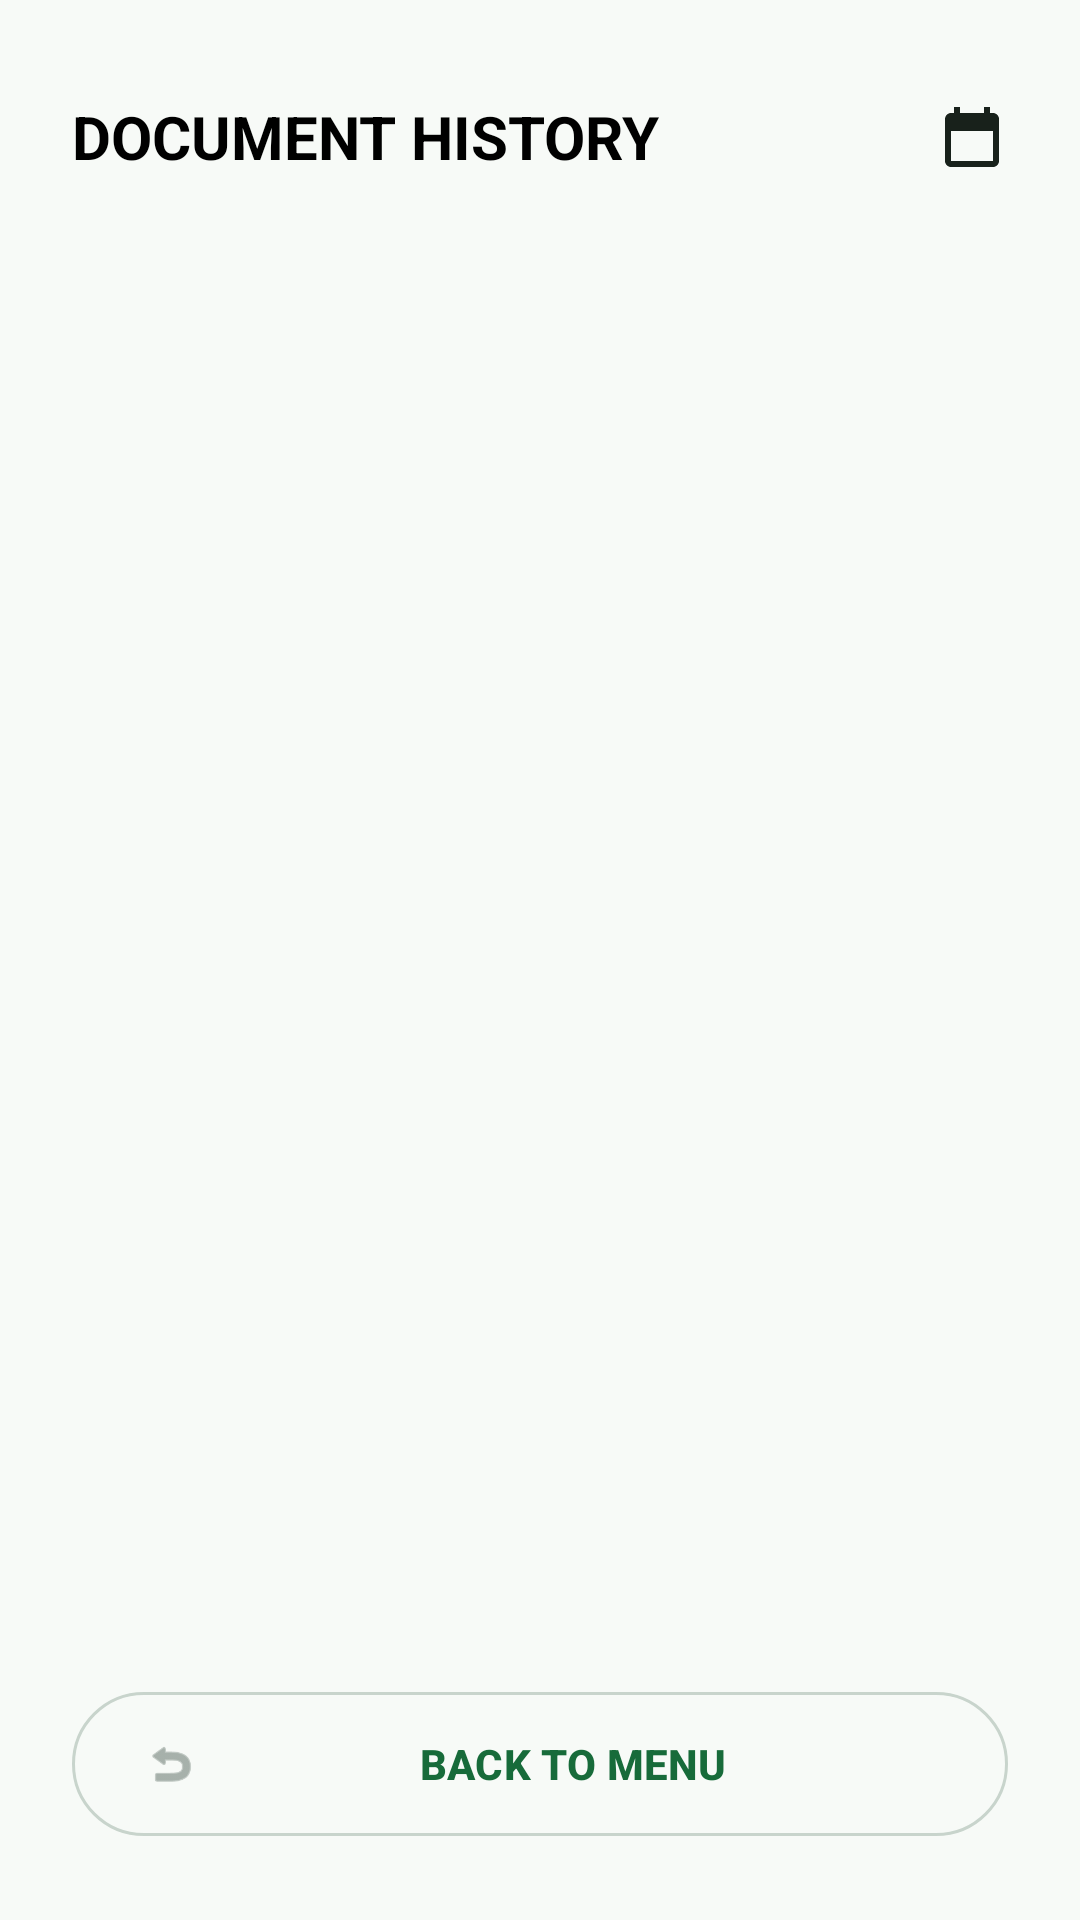

Named icons in this screenshot (1080px×1920px) and their bounding boxes, (x1=x1, y1=y1, x2=x2, y2=y2):
calendar: (x1=945, y1=107, x2=999, y2=167)
